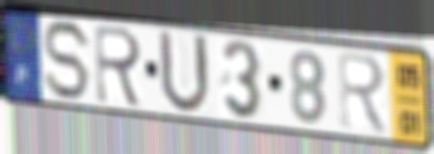3: (216, 38, 266, 123)
8: (287, 48, 330, 127)
R: (335, 49, 392, 139), (92, 21, 146, 111)
S: (41, 17, 94, 104)
U: (156, 26, 214, 119)
